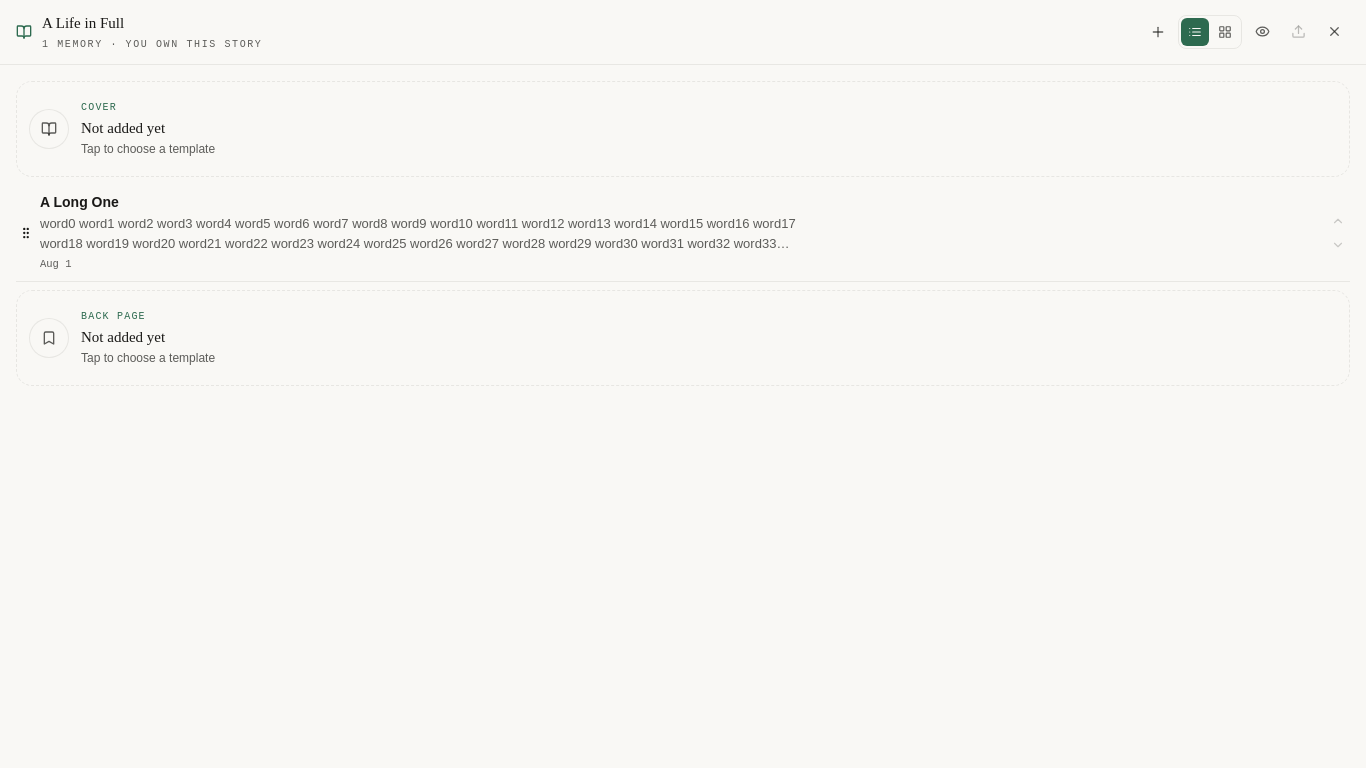
Test case: StoryView — Preview entry point (Phase 5) › paginates a long memory body across multiple reader pages — 620-word chunks past the first page
Expected: the text "A Long One" is shown, [40,194,119,210]
What coordinates should you click on to do the following:
click the button named "Preview this story"
I would click on:
 (1262, 32)
Its box is [1246,16,1278,48].
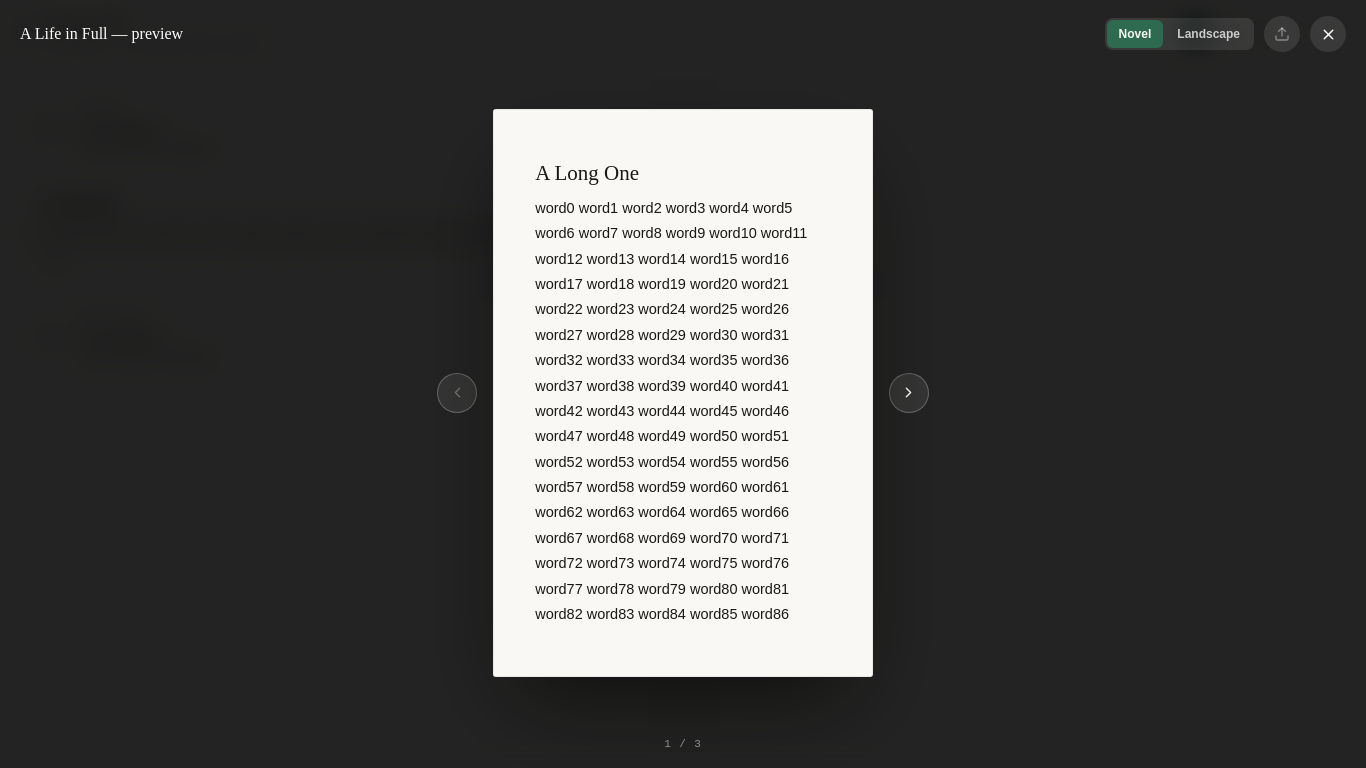
Expected: the dialog "Preview" does not show "word620"
Now the text "1 / 3" is shown, box [664,738,702,750]
What coordinates should you click on to do the following:
click the button named "Next page"
I would click on:
 (908, 393)
Its box is [888,373,928,413].
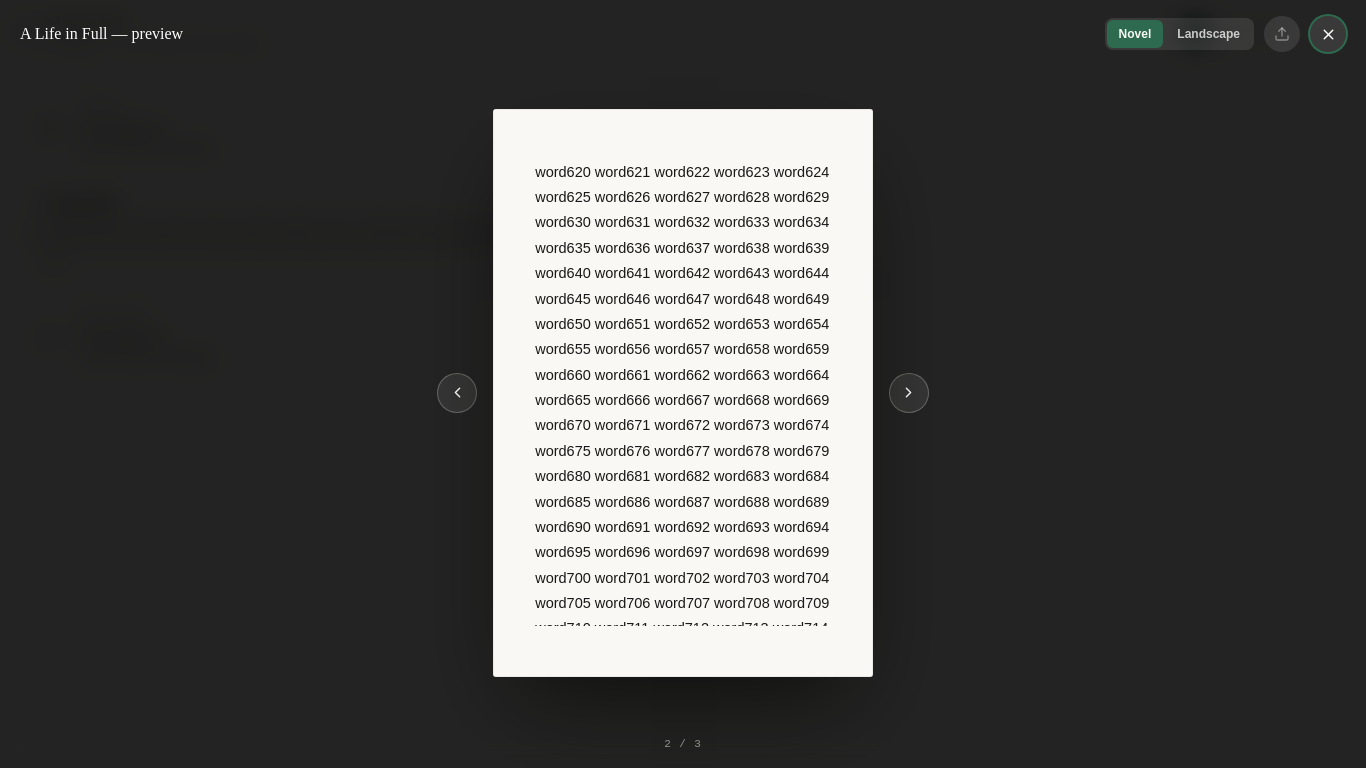
Now the text "2 / 3" is shown, box [664,738,702,750]
